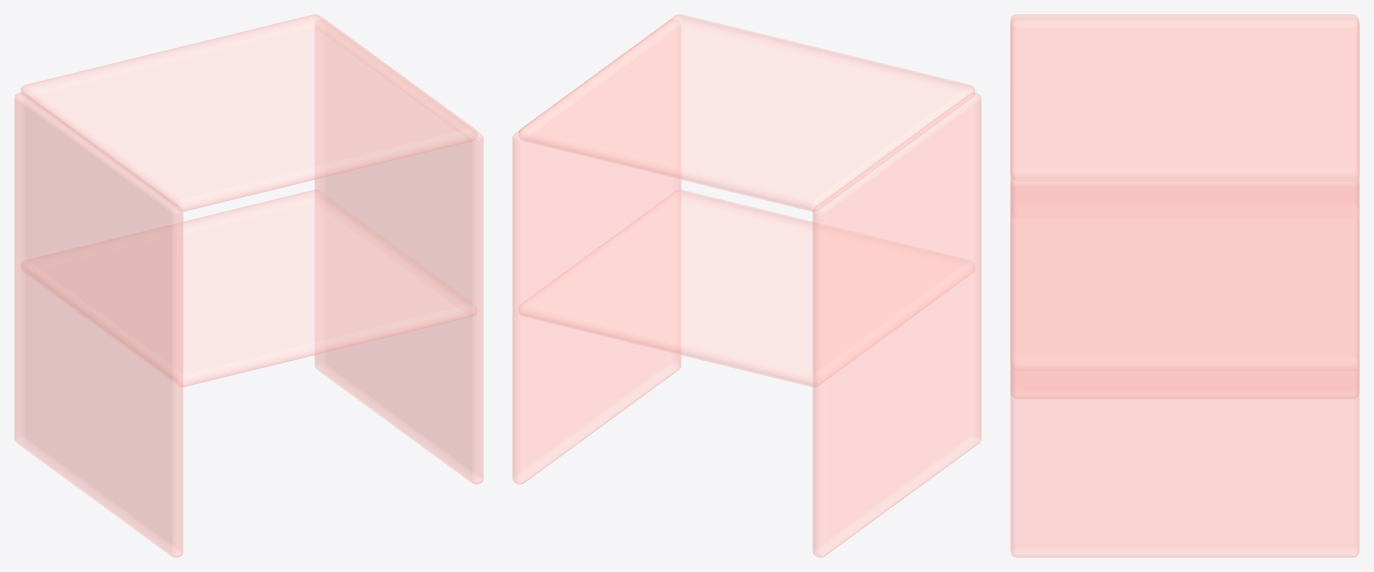
The model's file is ref06_21.glb.
The picture shows the model from 3 angles, left to right: view 1: azimuth 30°, elevation 25°; view 2: azimuth 150°, elevation 25°; view 3: azimuth 270°, elevation 25°; orthographic projection. The views are drawn at different scales.
Visible parts, largest first — view 1: ref06_21; view 2: ref06_21; view 3: ref06_21.
Part boxes in pixels (x1,y1,x2,y2): ref06_21: [14, 14, 483, 557]; ref06_21: [512, 14, 981, 557]; ref06_21: [1010, 14, 1359, 557].
Size of the model in its own units: 0.448 by 0.489 by 0.4.
